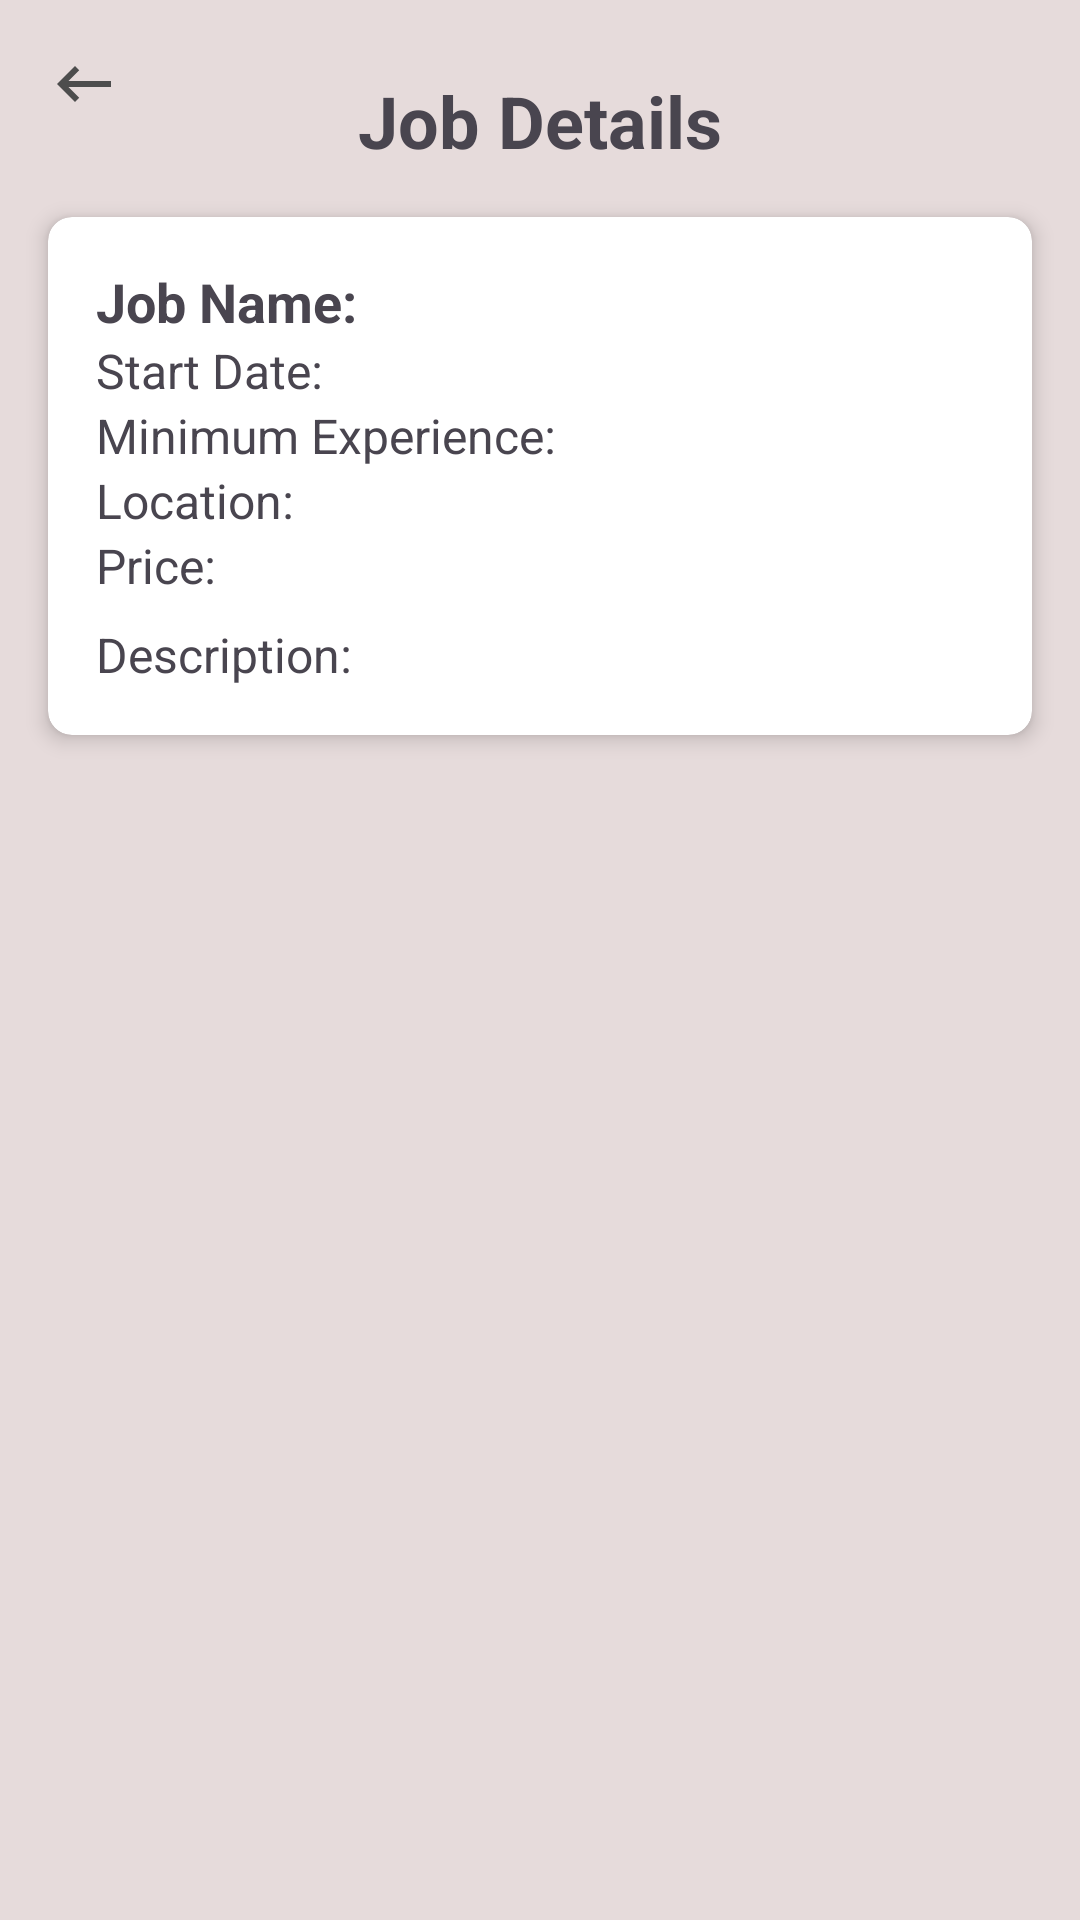

Where to tap for icons on this 1080×1920 app screen, as [x,y]:
backarrow: [84,84]
